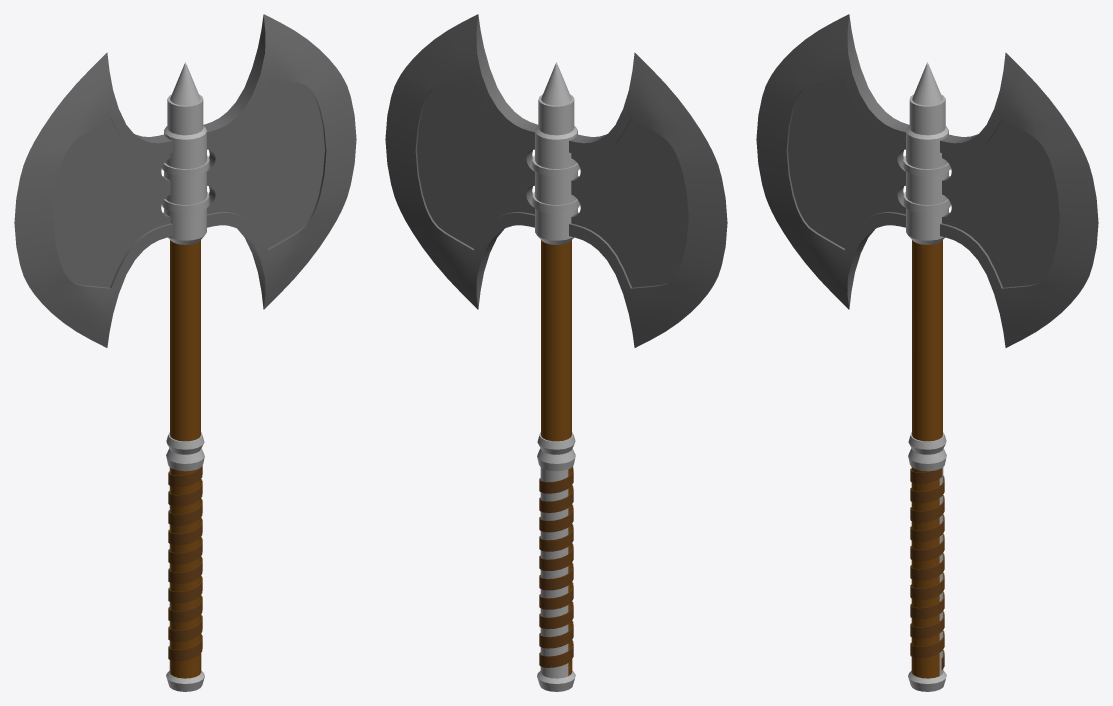
The model's file is Boar_Axe_-_Terrestrial.fbx.
3 renders of one model, left to right at view 1: azimuth 30°, elevation 25°; view 2: azimuth 150°, elevation 25°; view 3: azimuth 330°, elevation 25°, orthographic.
Parts seen in each view (by area): view 1: Handle Backup; view 2: Handle Backup; view 3: Handle Backup.
Part boxes in pixels (box(x1,y1,x2,y2)): Handle Backup: box(14, 14, 356, 691); Handle Backup: box(385, 14, 727, 691); Handle Backup: box(756, 14, 1098, 691).
Bounding box in the file's own units: 73.87 × 135 × 8.94.
